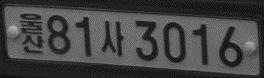0: (162, 21, 186, 64)
1: (75, 15, 92, 59), (192, 22, 209, 65)
3: (134, 19, 158, 61)
6: (217, 24, 245, 69)
8: (46, 13, 70, 55)
사: (100, 19, 124, 57)
울산_V: (18, 11, 44, 55)
